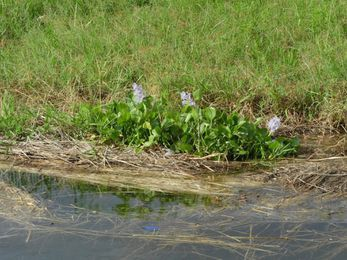water_hyacinth: (93, 86, 300, 168)
